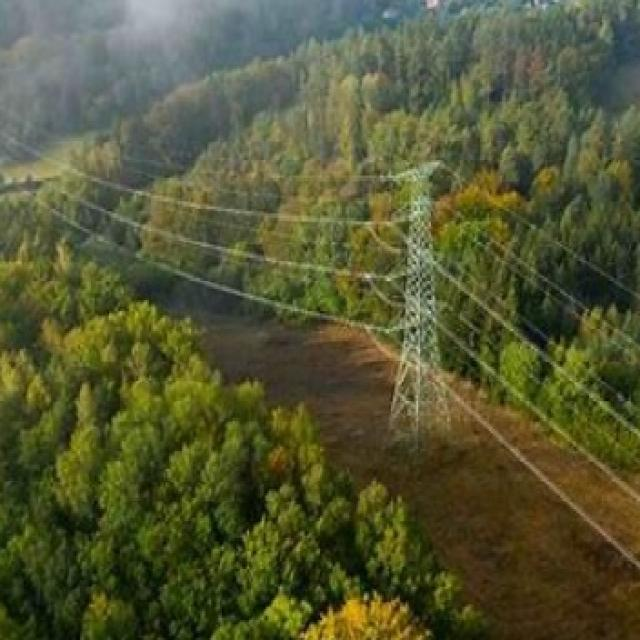utility poles: (318, 88, 498, 492)
